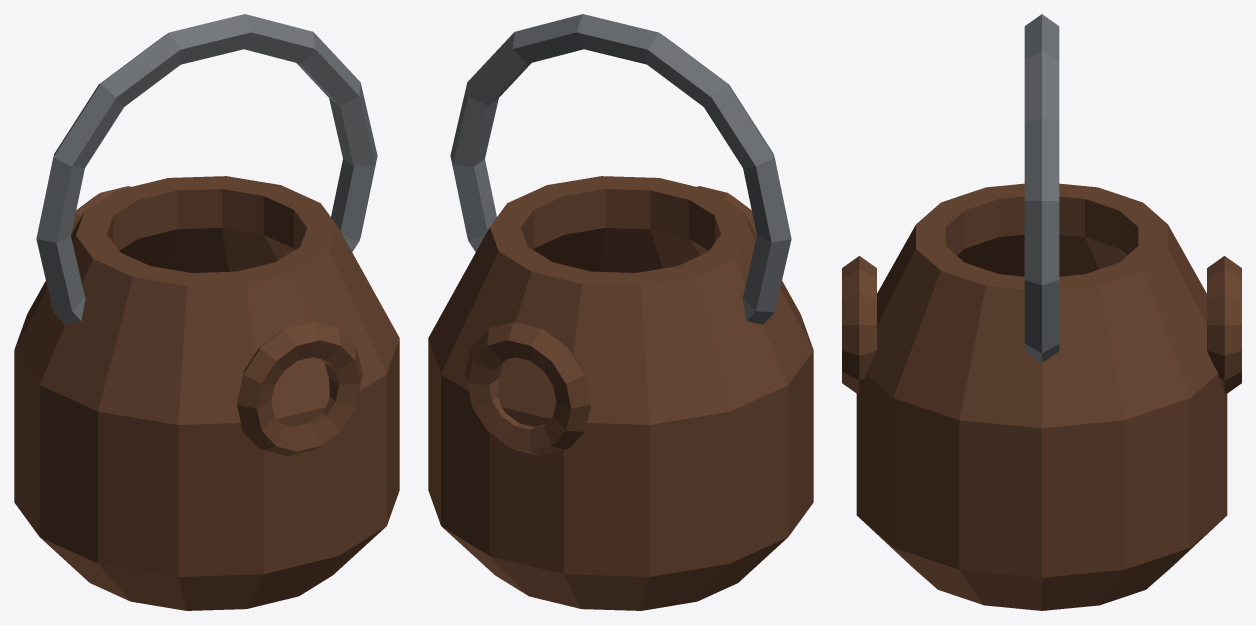
Rendered from Bucket__Wood.fbx.
The picture shows the model from 3 angles, left to right: view 1: azimuth 30°, elevation 25°; view 2: azimuth 150°, elevation 25°; view 3: azimuth 270°, elevation 25°; orthographic projection.
Parts seen in each view (by area): view 1: Bucket__Wood; view 2: Bucket__Wood; view 3: Bucket__Wood.
Boxes of the visible parts, x1,y1,x2,y2 form: Bucket__Wood: (14,14,399,610); Bucket__Wood: (428,14,813,610); Bucket__Wood: (842,14,1241,610).
Bounding box in the file's own units: 53 × 78.84 × 54.68.
Materials: 1 (1 with a texture image).
